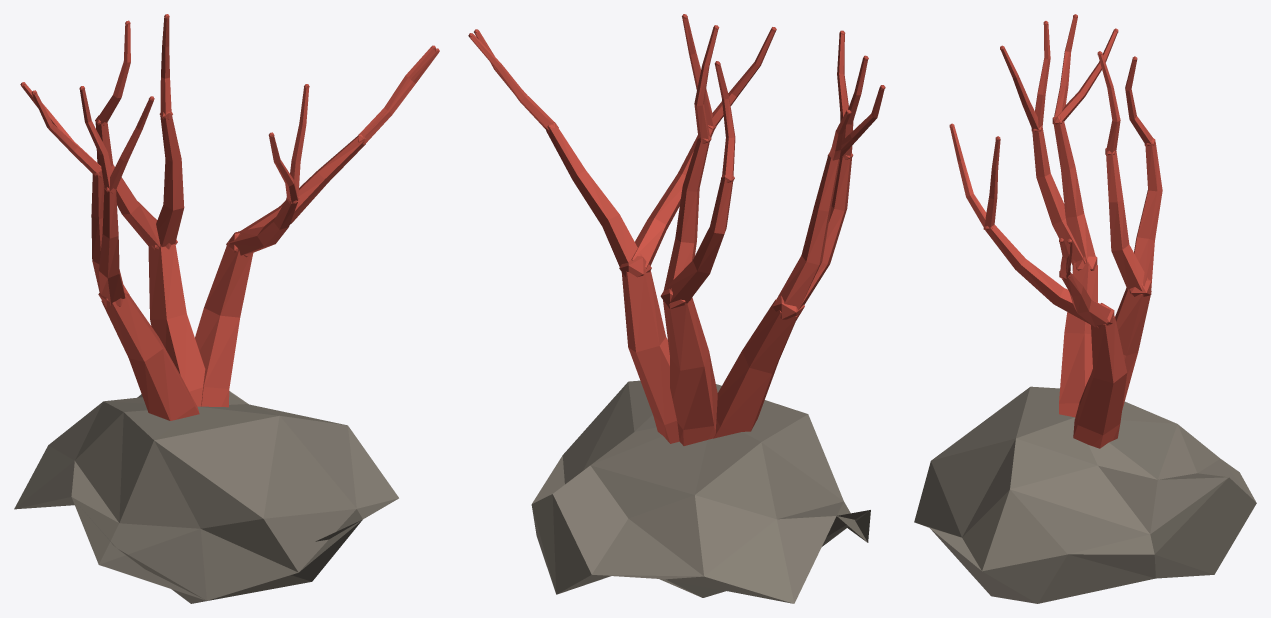
Rendered from ZB_obje_mercan.glb.
The picture shows the model from 3 angles, left to right: view 1: azimuth 30°, elevation 25°; view 2: azimuth 150°, elevation 25°; view 3: azimuth 270°, elevation 25°; orthographic projection. The views are drawn at different scales.
Visible parts, largest first — view 1: ZB_obje_mercan; view 2: ZB_obje_mercan; view 3: ZB_obje_mercan.
Part boxes in pixels (<box>): ZB_obje_mercan: <box>14,14,439,603</box>; ZB_obje_mercan: <box>468,14,885,603</box>; ZB_obje_mercan: <box>914,14,1256,603</box>.
Bounding box in the file's own units: 0.3279 × 0.4273 × 0.2626.
